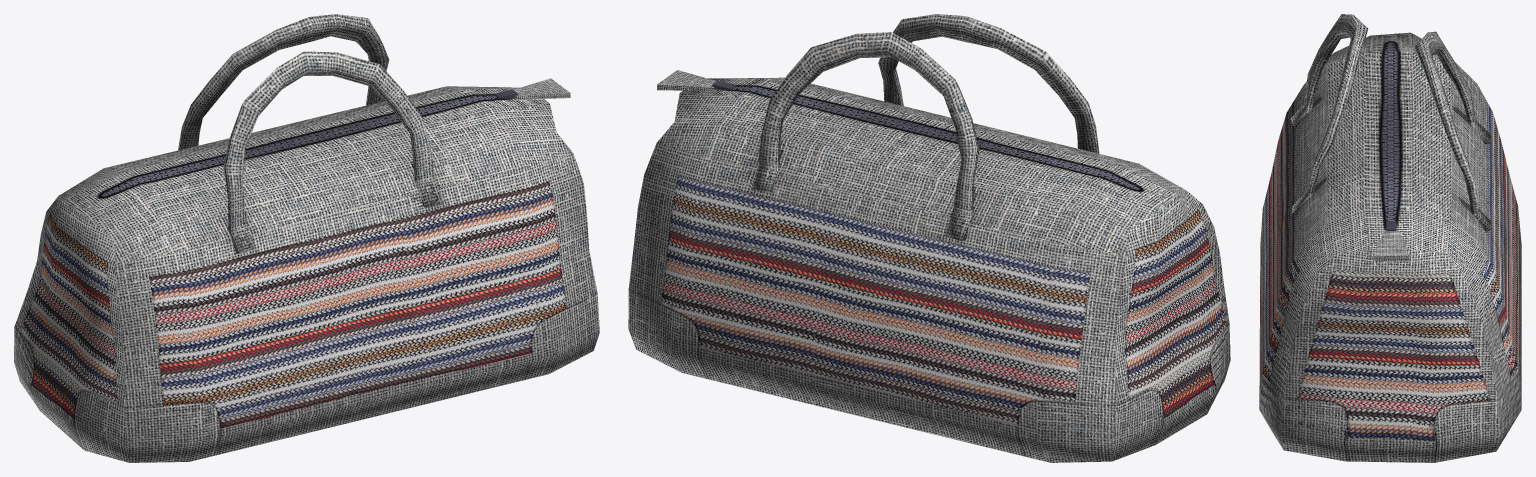
The model's file is handbag_3.fbx.
The picture shows the model from 3 angles, left to right: view 1: azimuth 30°, elevation 25°; view 2: azimuth 150°, elevation 25°; view 3: azimuth 270°, elevation 25°; orthographic projection. The views are drawn at different scales.
Parts seen in each view (by area): view 1: handbag_3; view 2: handbag_3; view 3: handbag_3.
Boxes of the visible parts, left/top/right/bottom form: handbag_3: left=14, top=14, right=599, bottom=462; handbag_3: left=628, top=14, right=1230, bottom=462; handbag_3: left=1259, top=14, right=1521, bottom=462.
Bounding box in the file's own units: 0.9183 × 0.5894 × 0.426.
